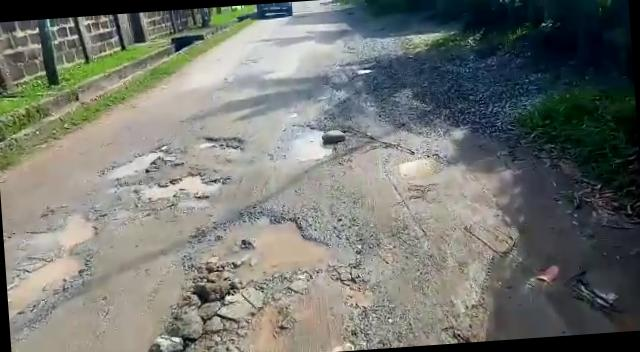pothole: (179, 202, 374, 300), (7, 247, 97, 317), (131, 160, 232, 204), (24, 209, 100, 248), (274, 120, 335, 164), (101, 145, 166, 177), (390, 152, 448, 182)
